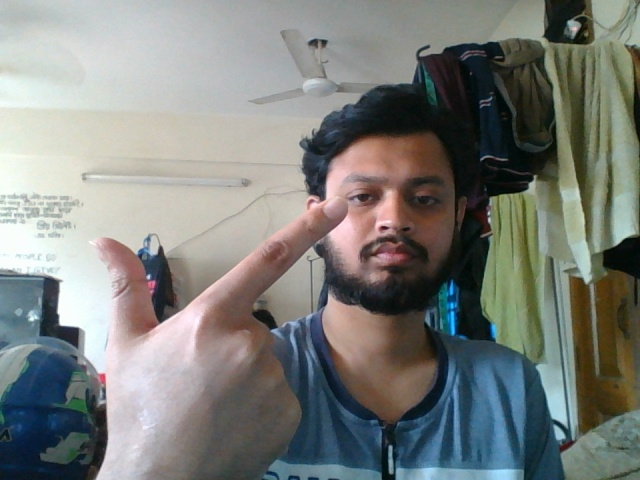tho: (83, 193, 350, 480)
